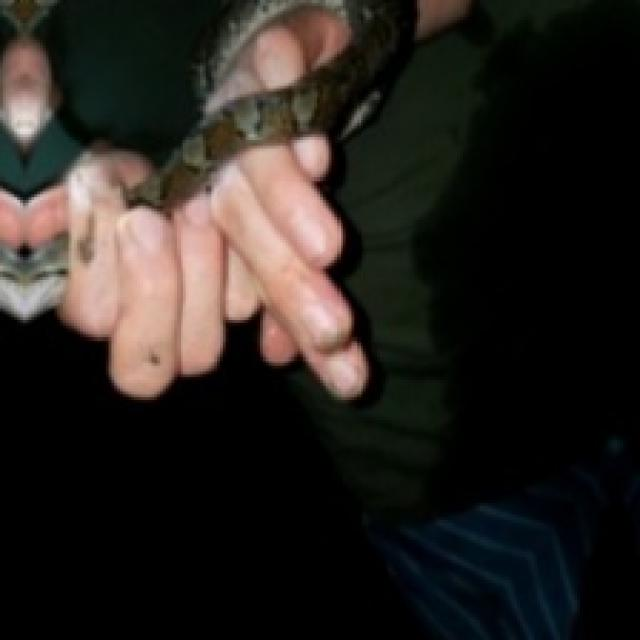reticulated python: (128, 1, 412, 209), (0, 236, 64, 321)
